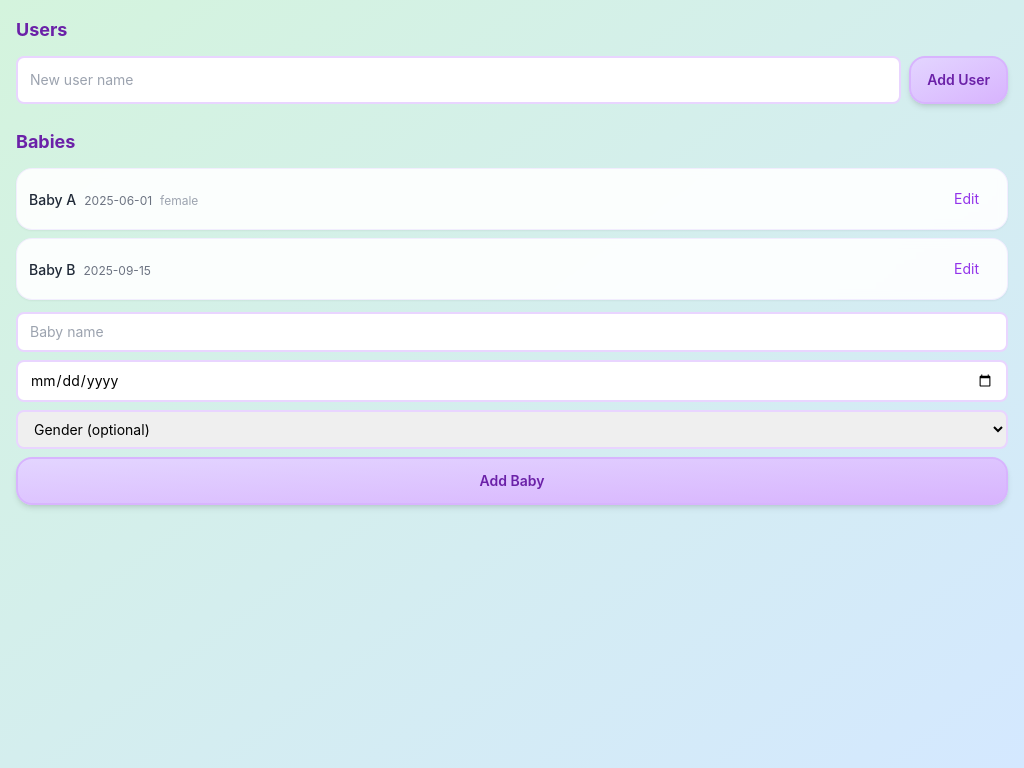
Test: Admin — edit baby › opens edit modal with baby data pre-filled when Edit is clicked
The image size is (1024, 768).
What coordinates should you click on to do the following:
click the button with aria-label "Edit Baby A"
I would click on:
 (966, 199)
Its box is left=938, top=181, right=995, bottom=217.
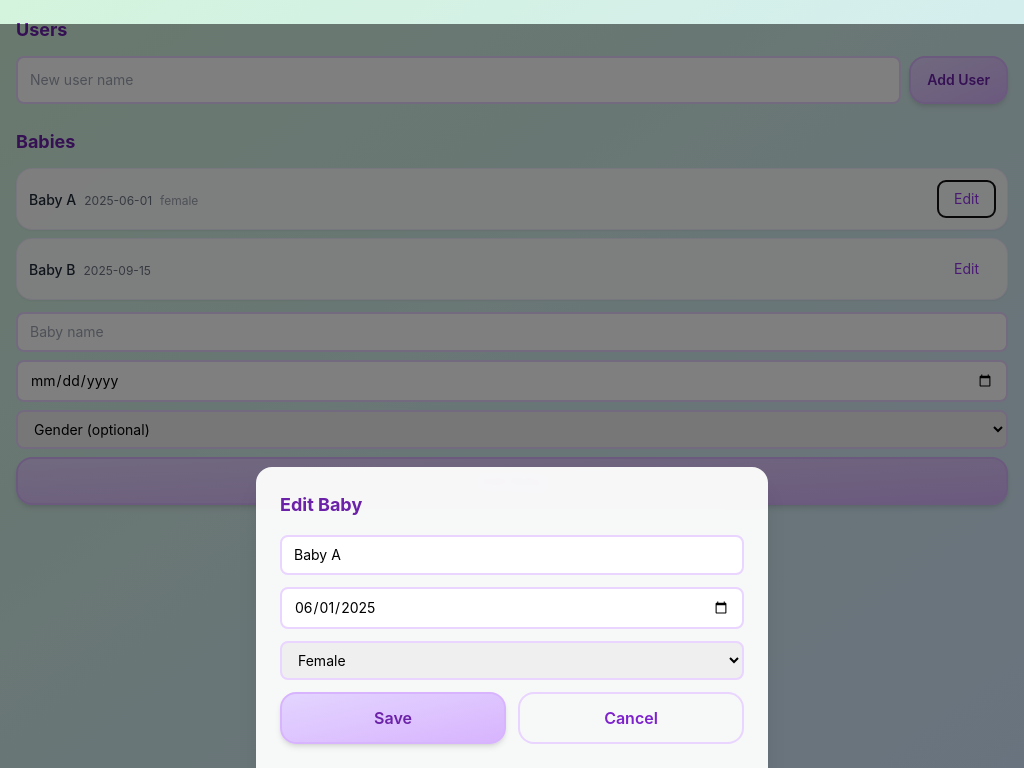
Now the heading "Edit Baby" is shown, box left=280, top=494, right=362, bottom=515
Now the field showing "Baby A" is shown, box left=280, top=535, right=744, bottom=575
Now the date field showing "2025-06-01" is shown, box left=280, top=587, right=744, bottom=629
